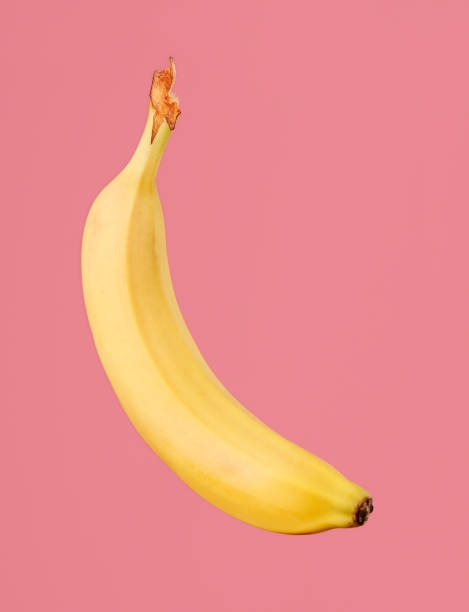fresh_banana: (79, 58, 375, 536)
